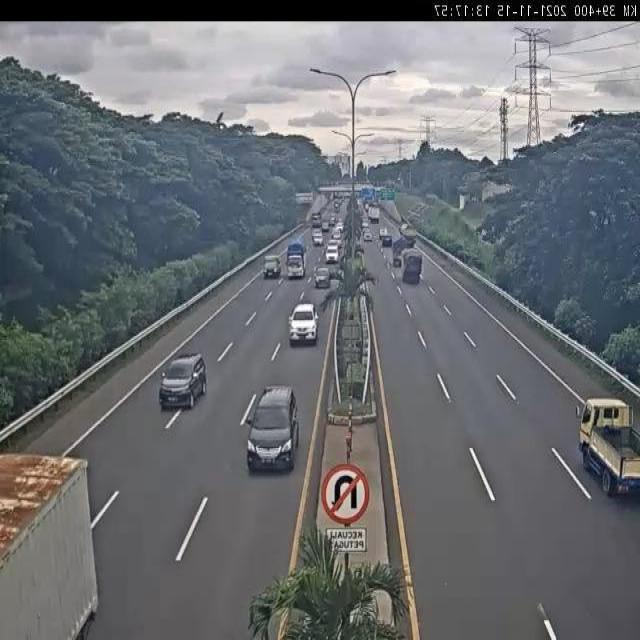Car: (246, 384, 300, 472), (160, 352, 206, 414), (288, 302, 320, 346), (263, 256, 282, 280), (314, 266, 331, 289), (325, 243, 340, 264), (312, 231, 324, 246), (364, 230, 373, 242), (322, 220, 329, 232), (329, 216, 336, 227)
Truck: (0, 450, 100, 640), (578, 399, 640, 498), (401, 249, 423, 284), (286, 240, 306, 278)
